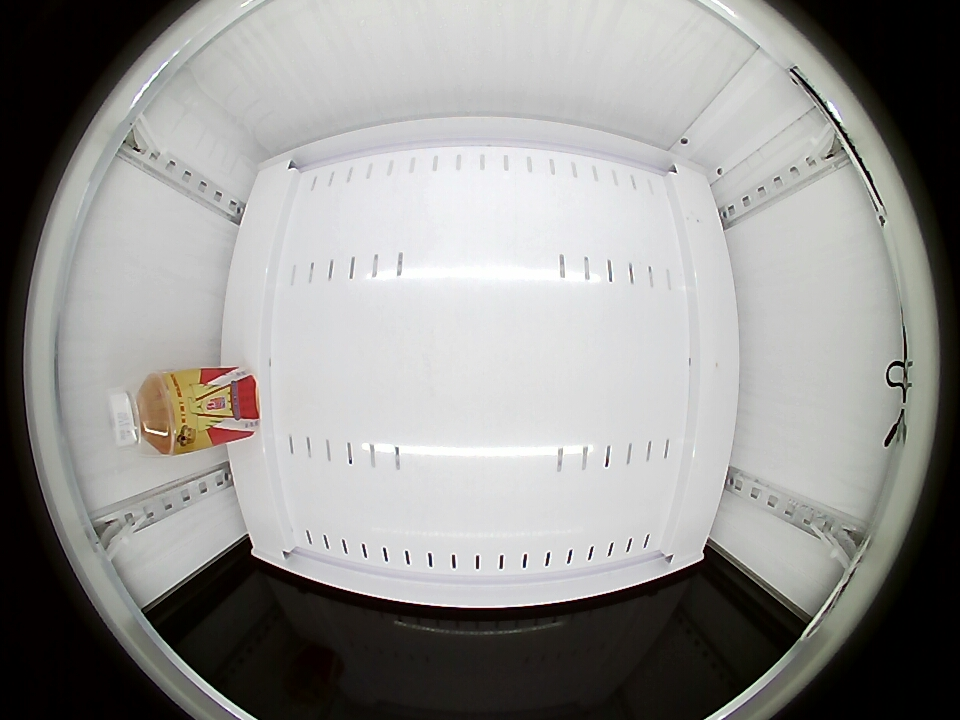dongpeng-b: (107, 371, 188, 456)
